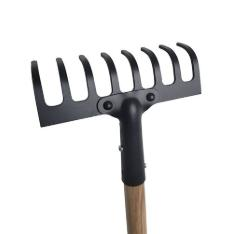RATEAU: (10, 3, 239, 234)
